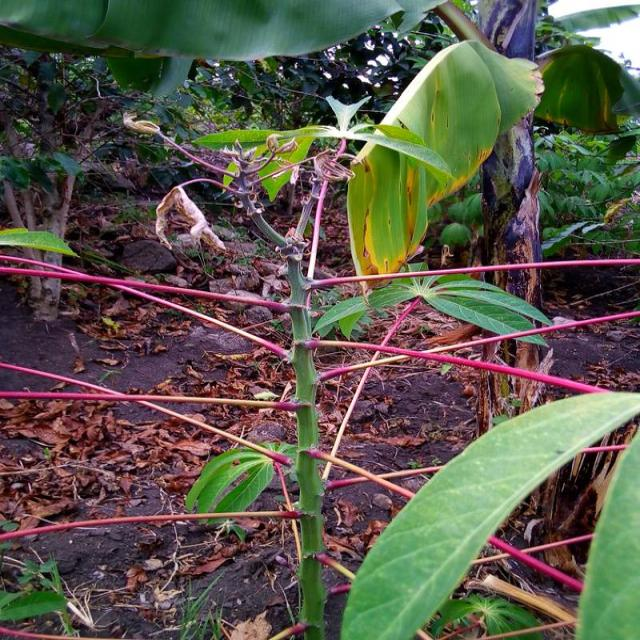cassava leaf: (340, 388, 640, 638), (346, 36, 545, 292), (534, 41, 640, 134)
